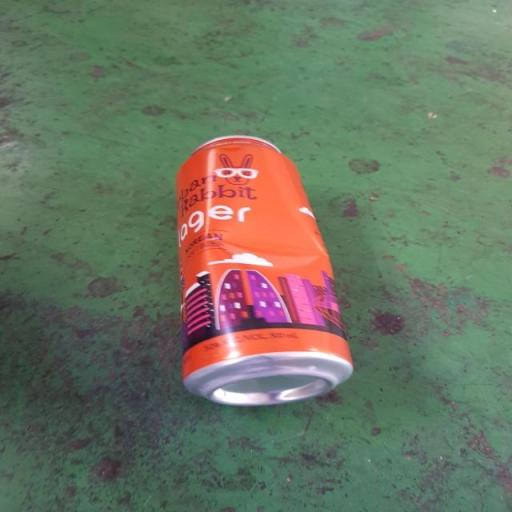metal: (132, 105, 384, 431)
